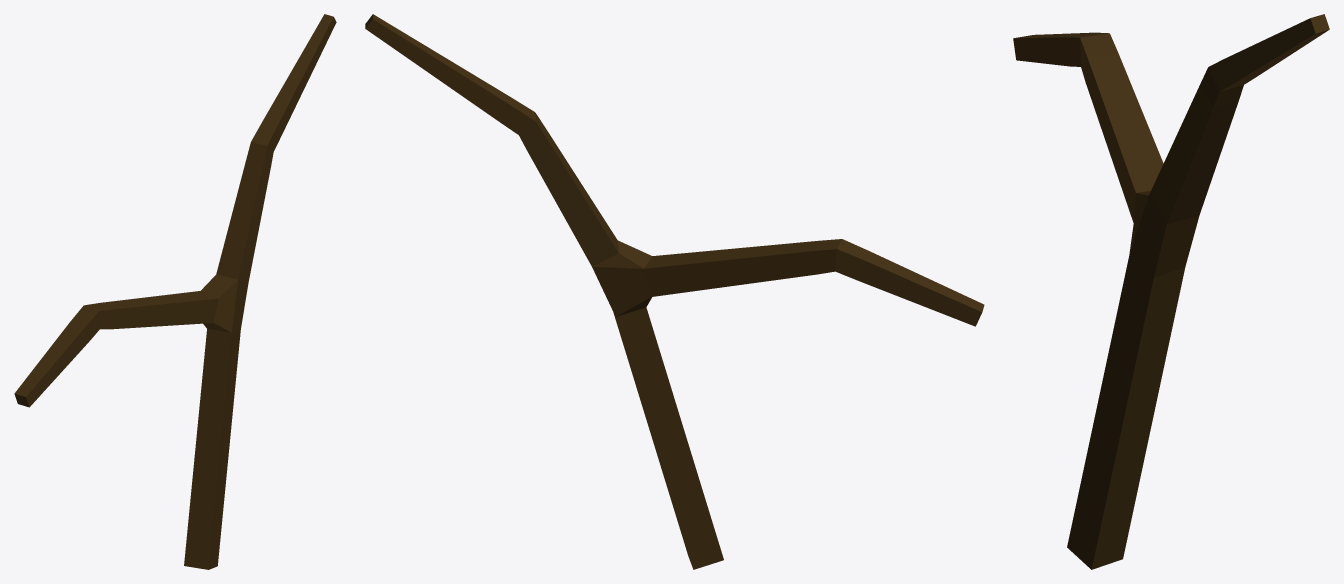
The model's file is tree.glb.
3 renders of one model, left to right at view 1: azimuth 30°, elevation 25°; view 2: azimuth 150°, elevation 25°; view 3: azimuth 270°, elevation 25°, orthographic. The views are drawn at different scales.
Visible parts, largest first — view 1: Plane; view 2: Plane; view 3: Plane.
Boxes of the visible parts, bbox=[...] form: Plane: bbox=[14, 14, 336, 569]; Plane: bbox=[365, 14, 984, 569]; Plane: bbox=[1013, 14, 1329, 569].
Bounding box in the file's own units: 2.05 × 2.13 × 0.8848.
